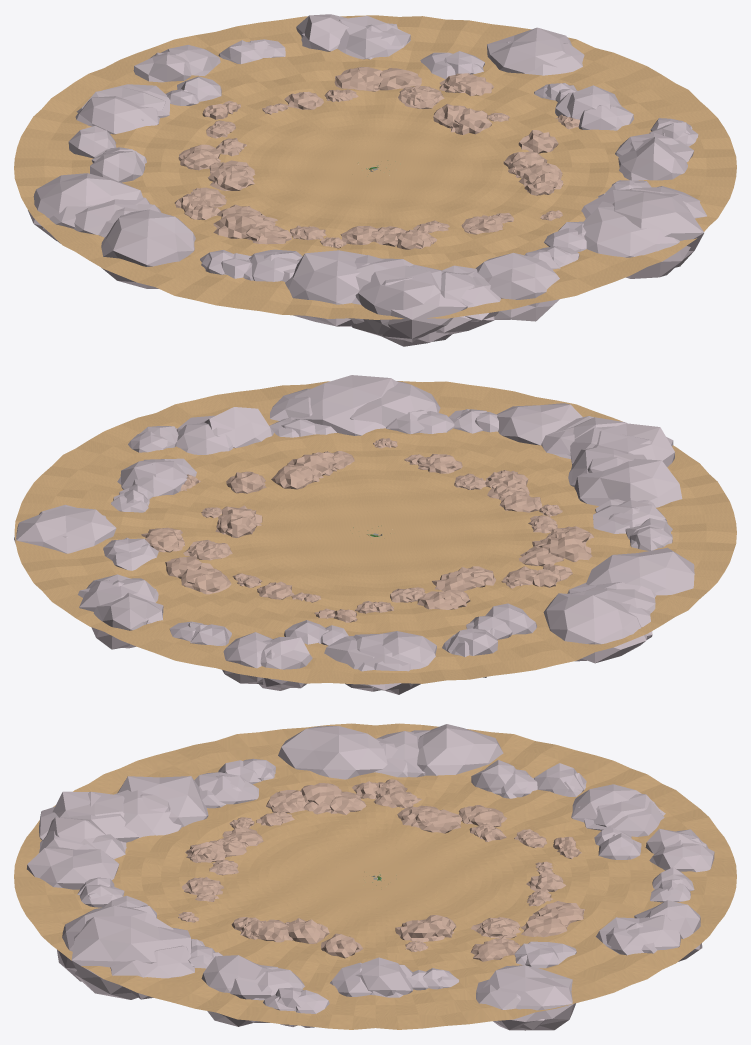
The model's file is copper-flats.glb.
3 views of the same model, one above another, from view 1: azimuth 30°, elevation 25°; view 2: azimuth 150°, elevation 25°; view 3: azimuth 270°, elevation 25° (orthographic).
Parts seen in each view (by area): view 1: M_Desert_Far, M_Mountain_Far, M_Mountain, M_Desert; view 2: M_Desert_Far, M_Mountain_Far, M_Mountain, M_Desert; view 3: M_Desert_Far, M_Mountain_Far, M_Mountain, M_Desert.
Part boxes in pixels (x1,y1,x2,y2): M_Desert_Far: [14, 15, 736, 319]; M_Mountain_Far: [28, 14, 706, 346]; M_Mountain: [174, 67, 579, 249]; M_Desert: [355, 160, 395, 177]; M_Desert_Far: [14, 381, 736, 684]; M_Mountain_Far: [14, 375, 694, 694]; M_Mountain: [141, 438, 593, 622]; M_Desert: [355, 525, 396, 542]; M_Desert_Far: [14, 723, 736, 1029]; M_Mountain_Far: [27, 724, 714, 1030]; M_Mountain: [178, 779, 584, 961]; M_Desert: [355, 870, 395, 886].
Size of the model in its own units: 5200 by 553 by 5200.
Materials: 31 (11 with a texture image).
